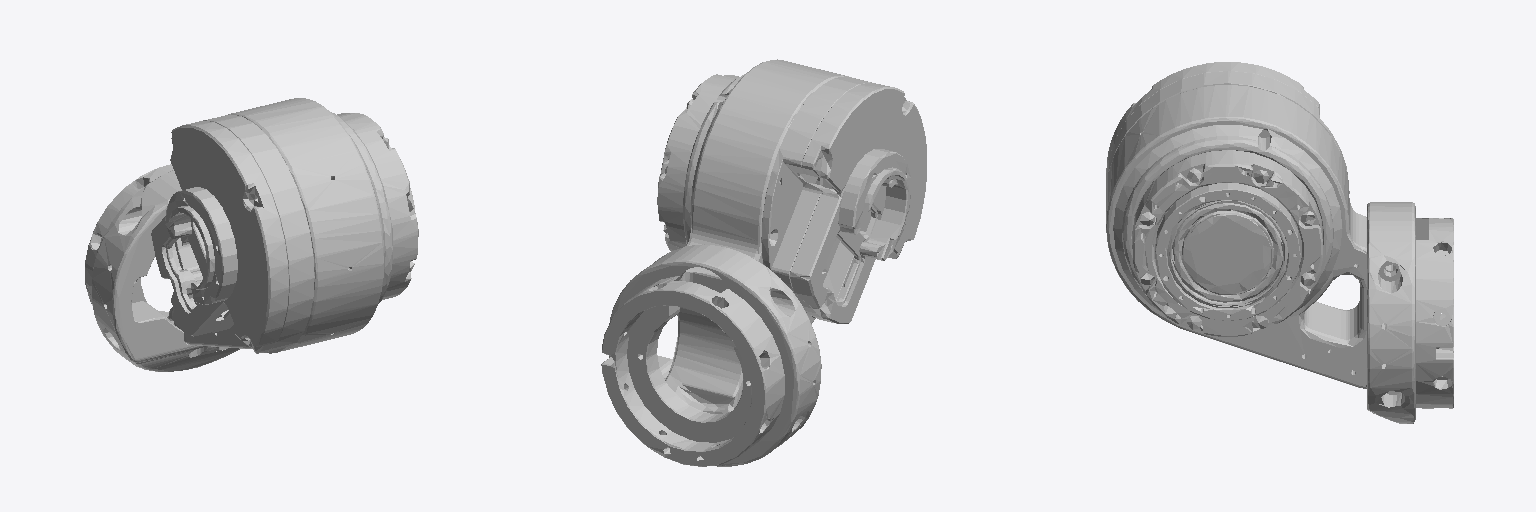
File: shoulderRollRight.obj
The picture shows the model from 3 angles: view 1: azimuth 30°, elevation 25°; view 2: azimuth 150°, elevation 25°; view 3: azimuth 270°, elevation 25°; orthographic projection.
Parts seen in each view (by area): view 1: shoulderRollRight-2; view 2: shoulderRollRight-2; view 3: shoulderRollRight-2.
Part boxes in pixels (x1,y1,x2,y2): shoulderRollRight-2: (85, 98, 418, 371); shoulderRollRight-2: (601, 59, 926, 466); shoulderRollRight-2: (1106, 62, 1453, 423).
Bounding box in the file's own units: 0.0655 × 0.101 × 0.1.